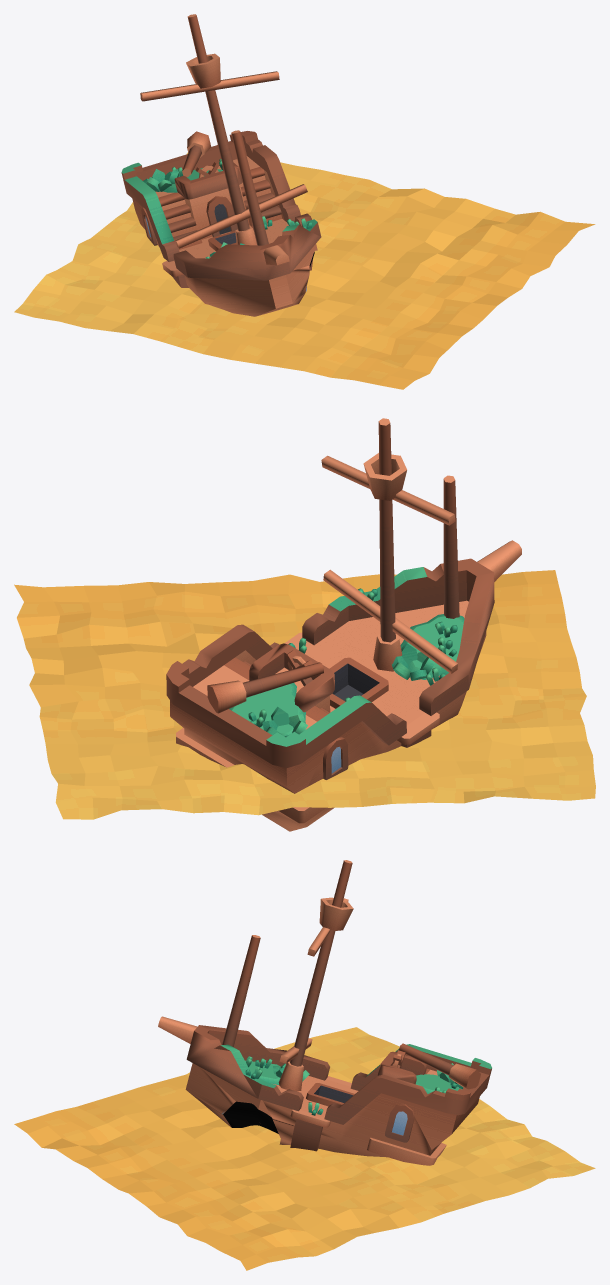
The model's file is underwater.glb.
The picture shows the model from 3 angles, top to bottom: view 1: azimuth 30°, elevation 25°; view 2: azimuth 150°, elevation 25°; view 3: azimuth 270°, elevation 25°; orthographic projection. The views are drawn at different scales.
Visible parts, largest first — view 1: Plane, ship-wreck.002-col, sail-a-col, ship-wreck.004-col, ship-wreck.003-col, ship-wreck.007-col, ship-wreck.010-col, Group-col, ship-wreck.001-col, Group.004-col; view 2: Plane, ship-wreck.002-col, sail-a-col, ship-wreck.004-col, ship-wreck.007-col, Group-col, ship-wreck.003-col, Group.001-col, Group.002-col, ship-wreck.010-col, Group.003-col, ship-wreck.011-col (+4 smaller); view 3: Plane, ship-wreck.002-col, ship-wreck.004-col, ship-wreck.003-col, Group-col, ship-wreck.007-col, ship-wreck-col, ship-wreck.010-col, ship-wreck.011-col, sail-a-col, ship-wreck.012-col.
Part boxes in pixels (box(x1,y1,x2,y2)): Plane: box(14, 152, 595, 389); ship-wreck.002-col: box(121, 131, 321, 316); sail-a-col: box(140, 71, 307, 248); ship-wreck.004-col: box(187, 14, 249, 231); ship-wreck.003-col: box(231, 130, 268, 245); ship-wreck.007-col: box(174, 162, 242, 199); ship-wreck.010-col: box(186, 53, 220, 88); Group-col: box(182, 131, 211, 176); ship-wreck.001-col: box(206, 196, 237, 237); Group.004-col: box(143, 169, 179, 191); Plane: box(14, 570, 595, 819); ship-wreck.002-col: box(166, 558, 494, 831); sail-a-col: box(321, 455, 457, 673); ship-wreck.004-col: box(378, 418, 395, 642); ship-wreck.007-col: box(249, 643, 334, 712); Group-col: box(207, 662, 323, 713); ship-wreck.003-col: box(443, 475, 459, 618); Group.001-col: box(229, 683, 305, 736); Group.002-col: box(400, 614, 464, 679); ship-wreck.010-col: box(363, 453, 406, 500); Group.003-col: box(392, 642, 435, 680); ship-wreck.011-col: box(477, 540, 521, 581); Plane: box(14, 1027, 595, 1270); ship-wreck.002-col: box(185, 1025, 491, 1165); ship-wreck.004-col: box(290, 860, 352, 1066); ship-wreck.003-col: box(222, 935, 260, 1046); Group-col: box(399, 1043, 480, 1089); ship-wreck.007-col: box(377, 1051, 426, 1084); ship-wreck-col: box(385, 1104, 414, 1142); ship-wreck.010-col: box(319, 897, 353, 930); ship-wreck.011-col: box(158, 1016, 197, 1043); sail-a-col: box(279, 898, 348, 1063); ship-wreck.012-col: box(278, 1061, 303, 1091).
Size of what is drawn, in the model's own units: 18.73 by 10.61 by 18.76.
Materials: 1 (1 with a texture image).
